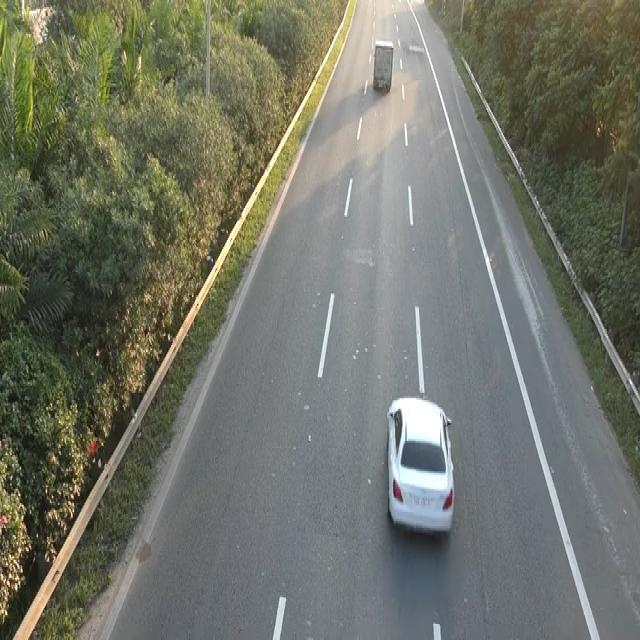bus: (383, 389, 457, 539)
minivan: (370, 36, 397, 100)
